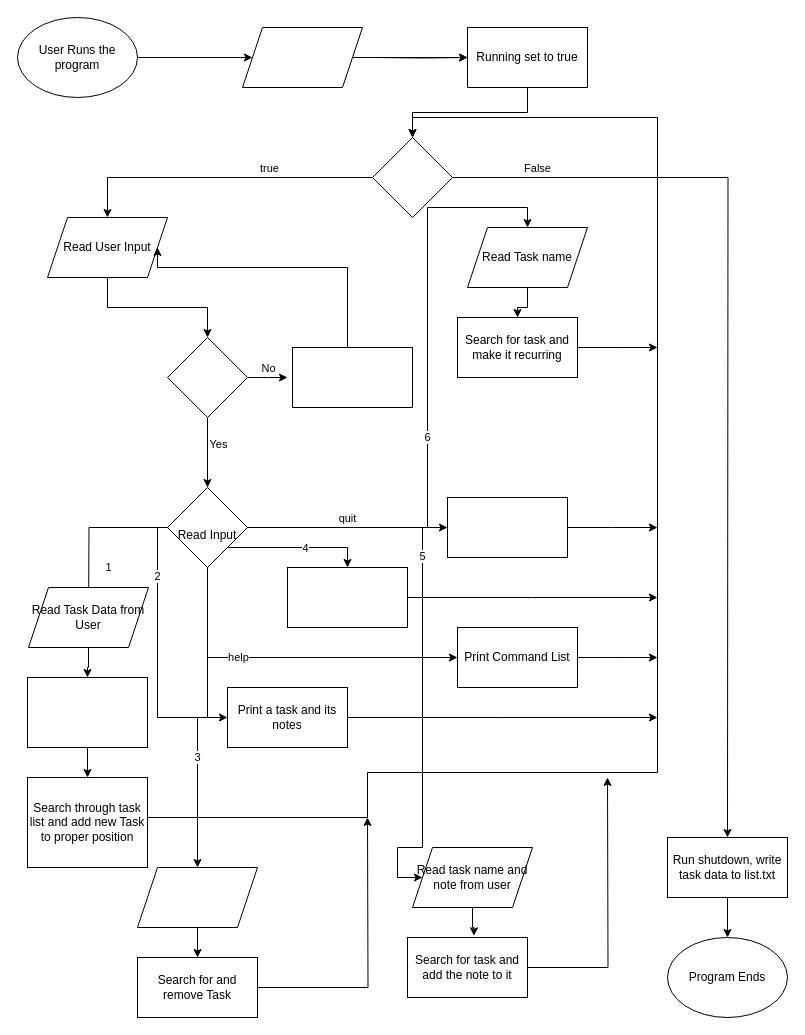
The diagram is 805 pixels wide and 1035 high, and some of its shapes have lost their labels. Each missing label, with the centre of its shape:
Input Valid: the point at 207,377
Print Invalid input and help command: the point at 352,377
Print Task List: the point at 347,597
Read Task name from user: the point at 197,897
run startup method, read from list.txt: the point at 302,57
Running?: the point at 412,177
Set running to false: the point at 507,527
Turn user input in new Task Object: the point at 87,712
